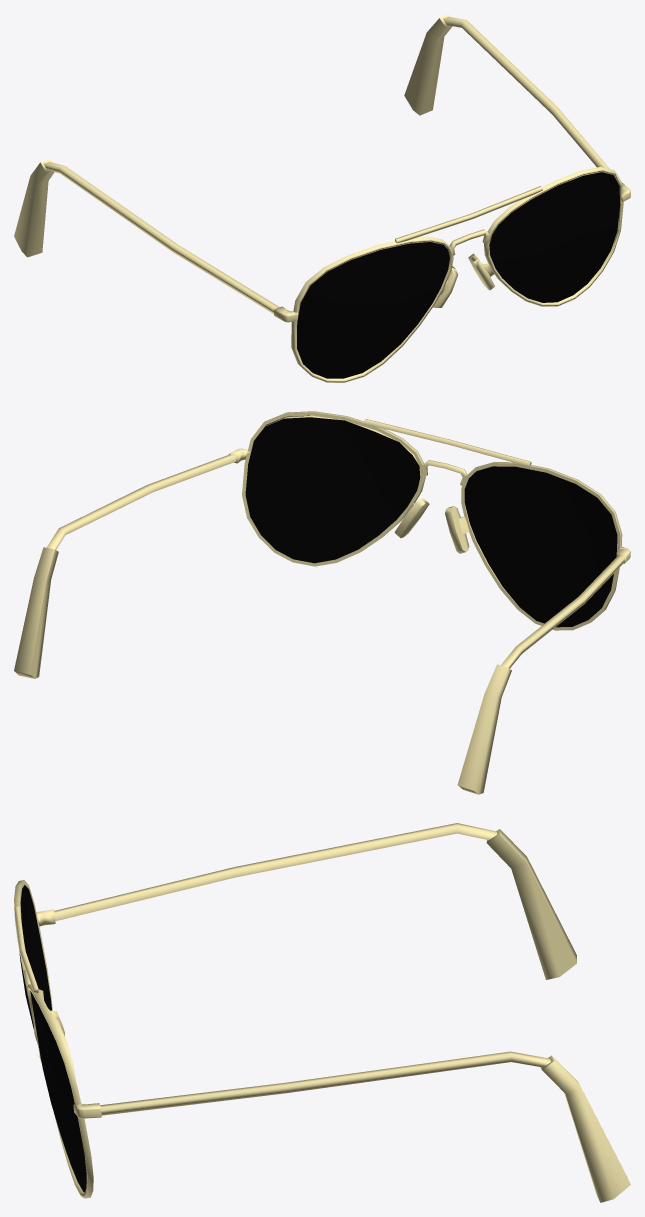
File: Glasses.fbx
3 renders of one model, top to bottom at view 1: azimuth 30°, elevation 25°; view 2: azimuth 150°, elevation 25°; view 3: azimuth 270°, elevation 25°, orthographic. The views are drawn at different scales.
Parts seen in each view (by area): view 1: Glasses; view 2: Glasses; view 3: Glasses.
Part boxes in pixels (left/top/right/bottom): Glasses: left=14, top=14, right=630, bottom=382; Glasses: left=14, top=411, right=630, bottom=794; Glasses: left=14, top=823, right=630, bottom=1202.
Size of the model in its own units: 16.21 by 5.59 by 15.63.
